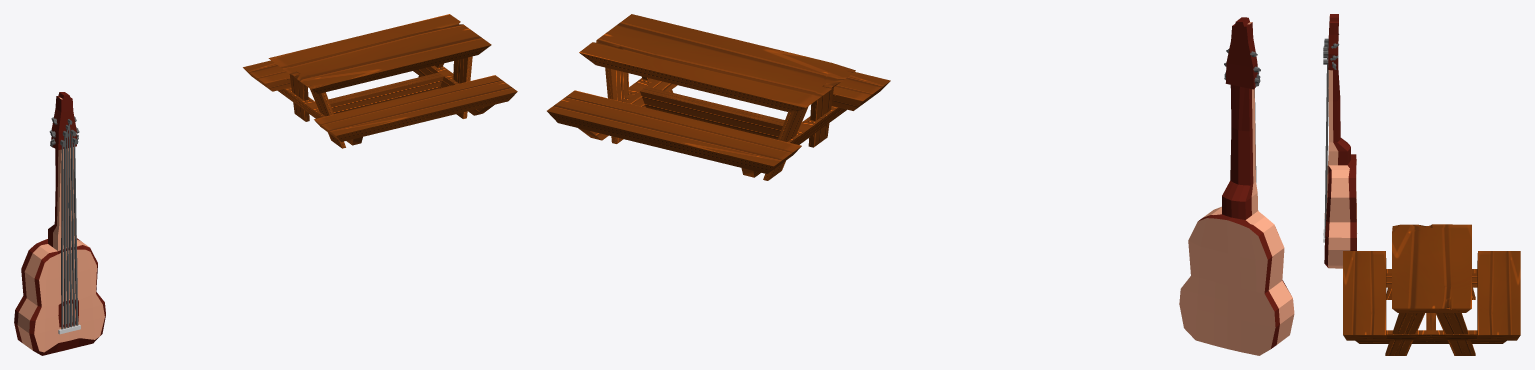
Rendered from Forestassets.fbx.
The picture shows the model from 3 angles, left to right: view 1: azimuth 30°, elevation 25°; view 2: azimuth 150°, elevation 25°; view 3: azimuth 270°, elevation 25°; orthographic projection. The views are drawn at different scales.
Visible parts, largest first — view 1: table, guitar; view 2: table, guitar; view 3: table, guitar.
Boxes of the visible parts, x1,y1,x2,y2 form: table: (243, 14, 517, 148); guitar: (14, 92, 105, 355); table: (547, 14, 890, 180); guitar: (1179, 17, 1294, 355); table: (1343, 224, 1520, 355); guitar: (1323, 14, 1357, 268).
Bounding box in the file's own units: 1061 × 522 × 385.
